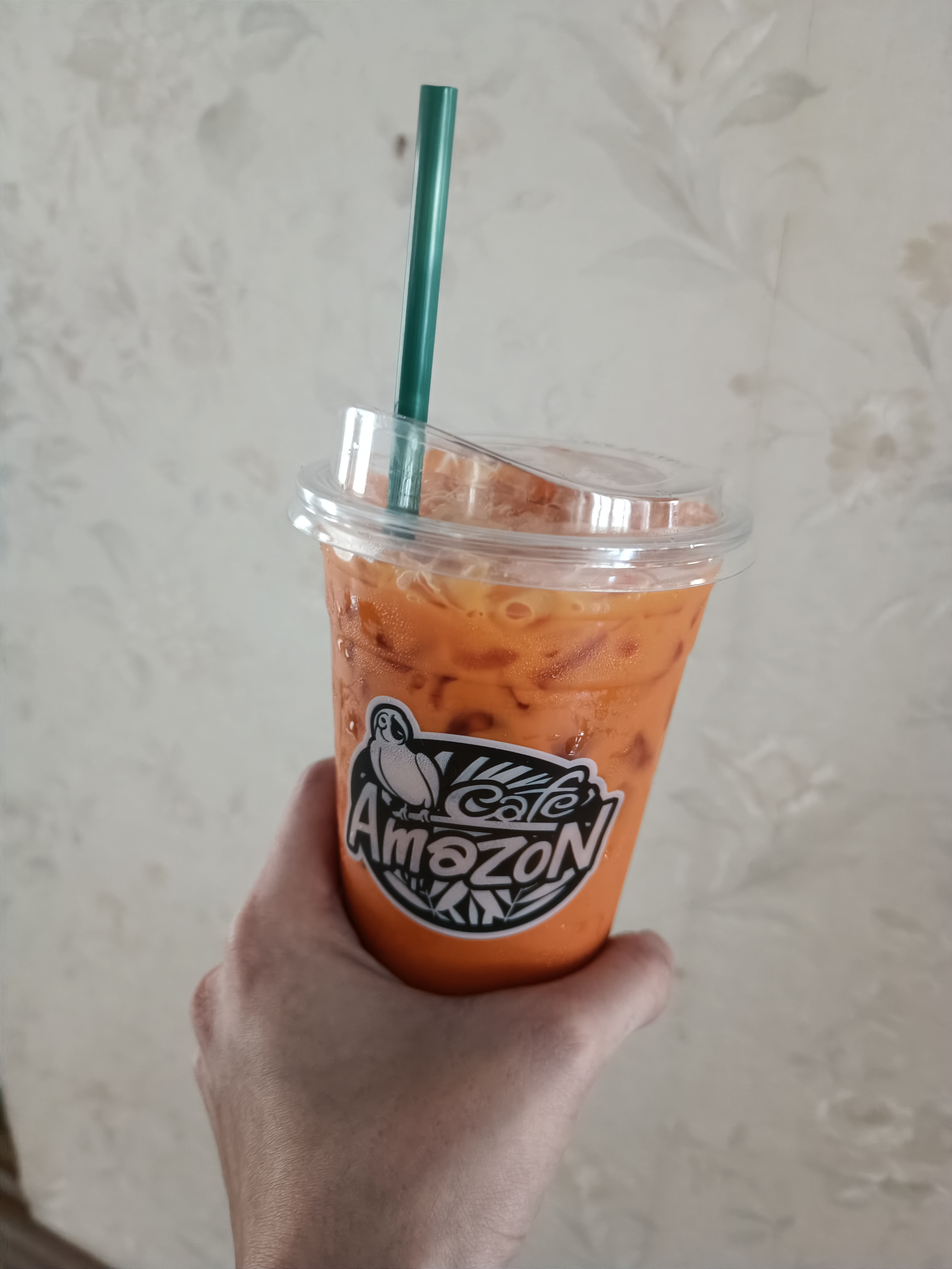plastic: (257, 43, 778, 1016)
